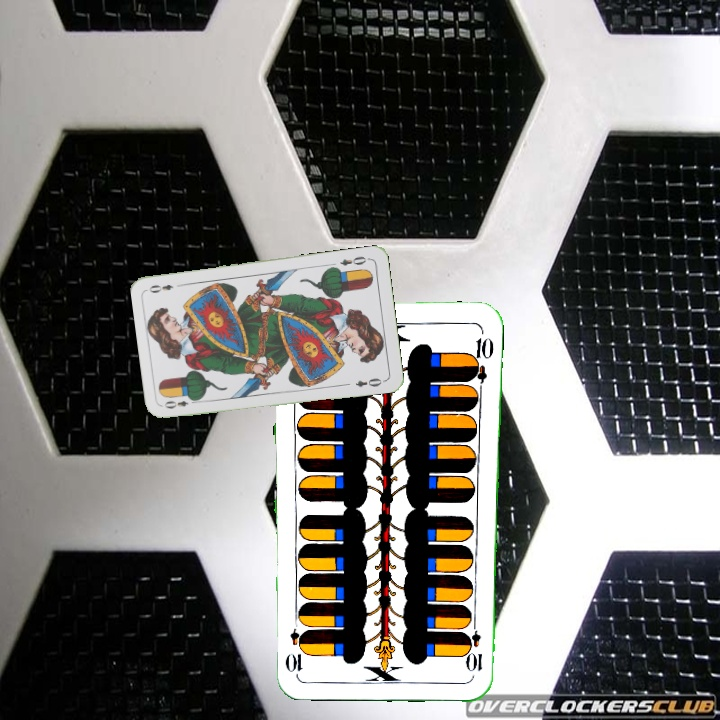E10: (463, 617, 484, 675)
EO: (160, 394, 200, 411), (336, 252, 372, 268)
